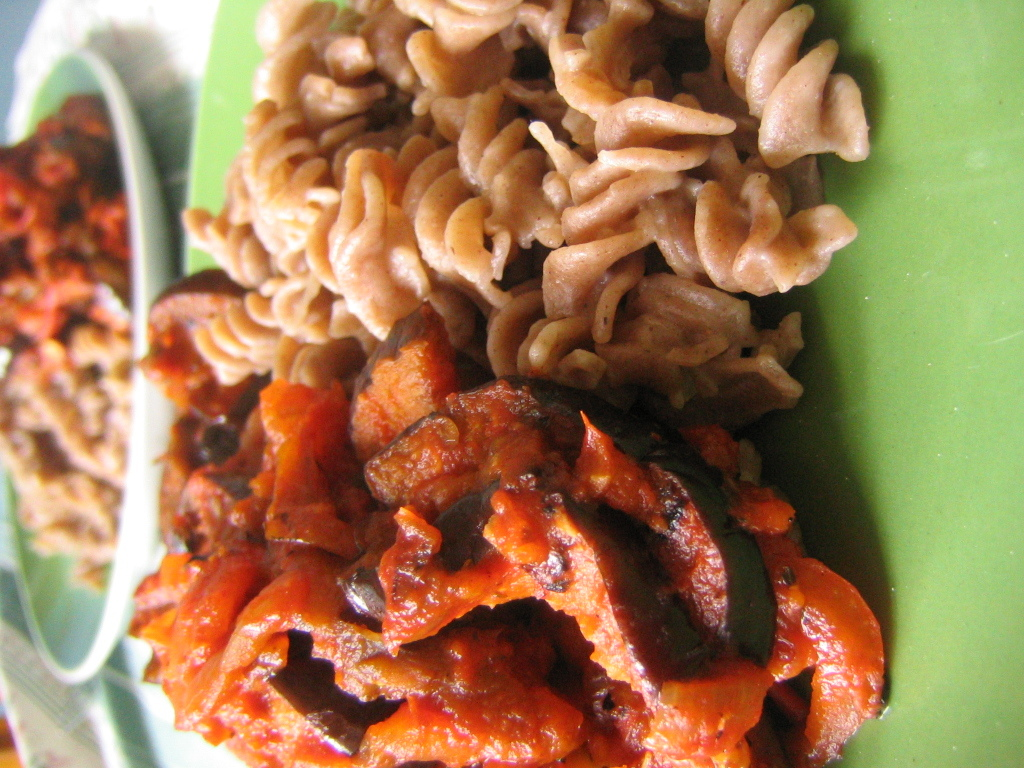pasta: (180, 0, 876, 433)
